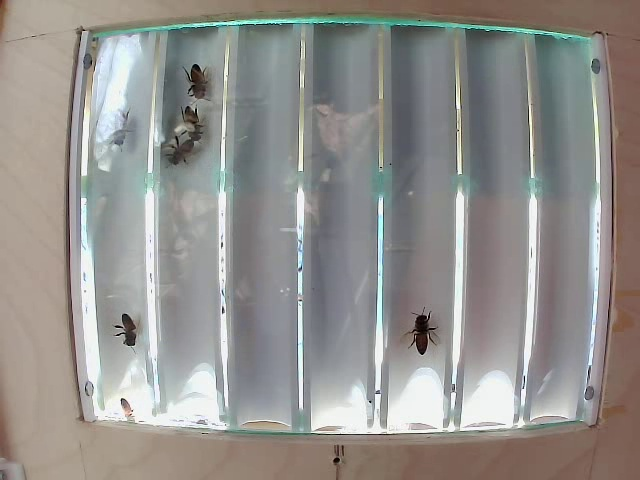bee: (403, 299, 443, 364), (157, 134, 194, 173), (172, 97, 206, 139), (185, 65, 218, 105), (109, 301, 141, 339)
